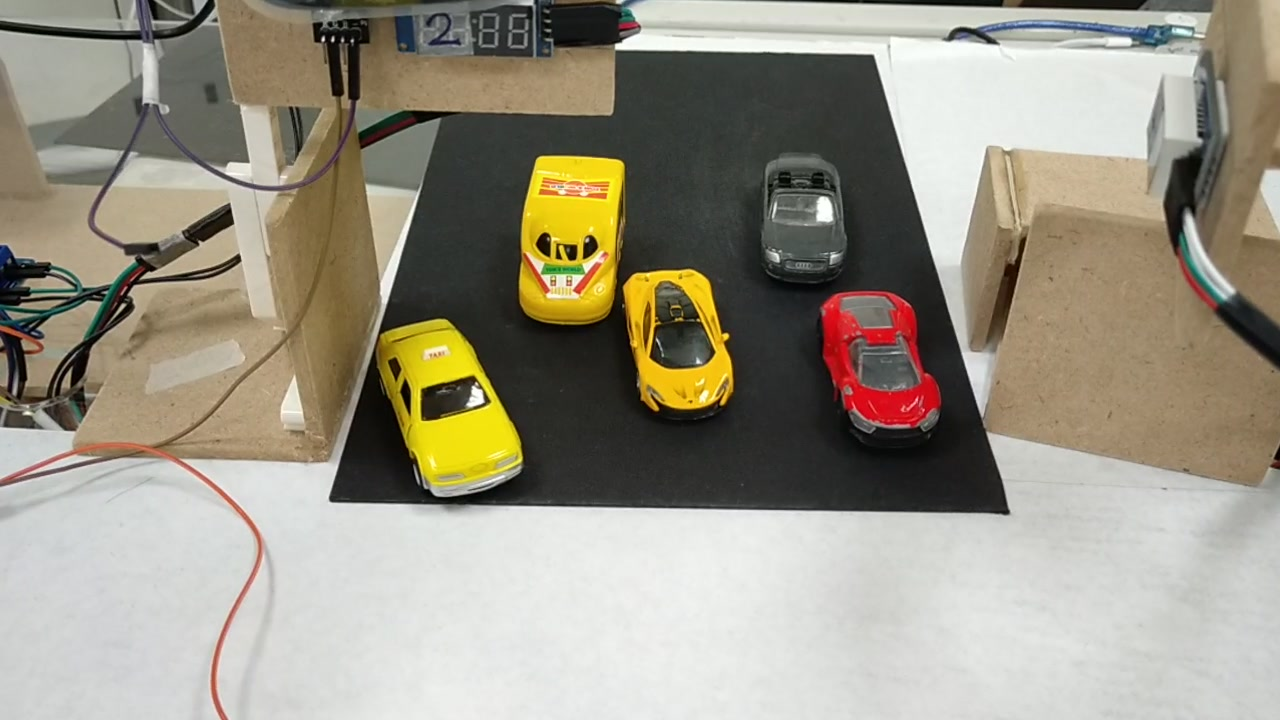car: (368, 326, 521, 492), (812, 292, 942, 444), (613, 275, 734, 419), (756, 155, 850, 282)
